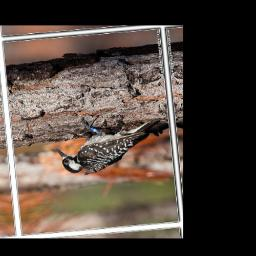Woodpecker: (48, 102, 174, 183)
